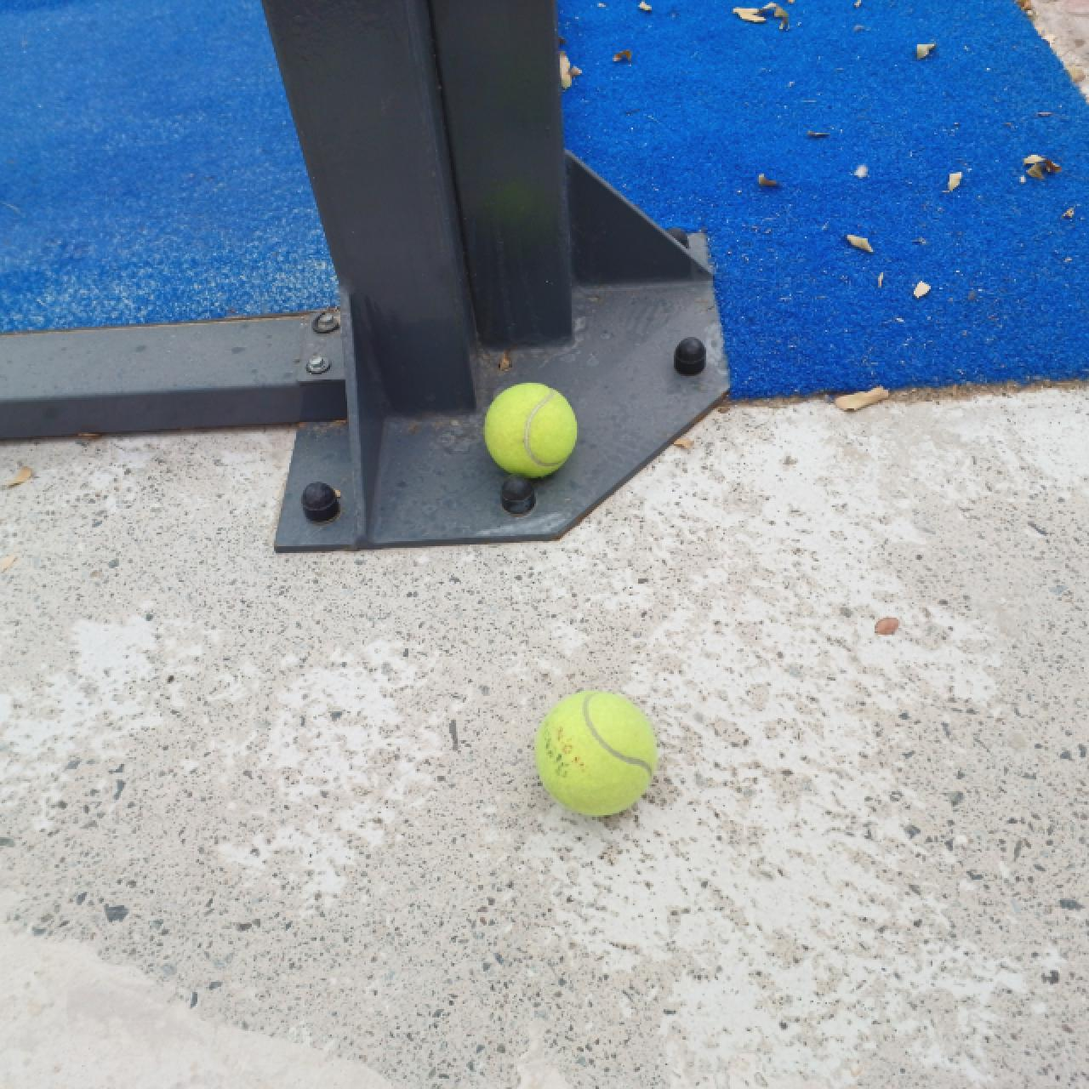tennis-ball: (534, 688, 656, 818), (481, 382, 580, 478)
